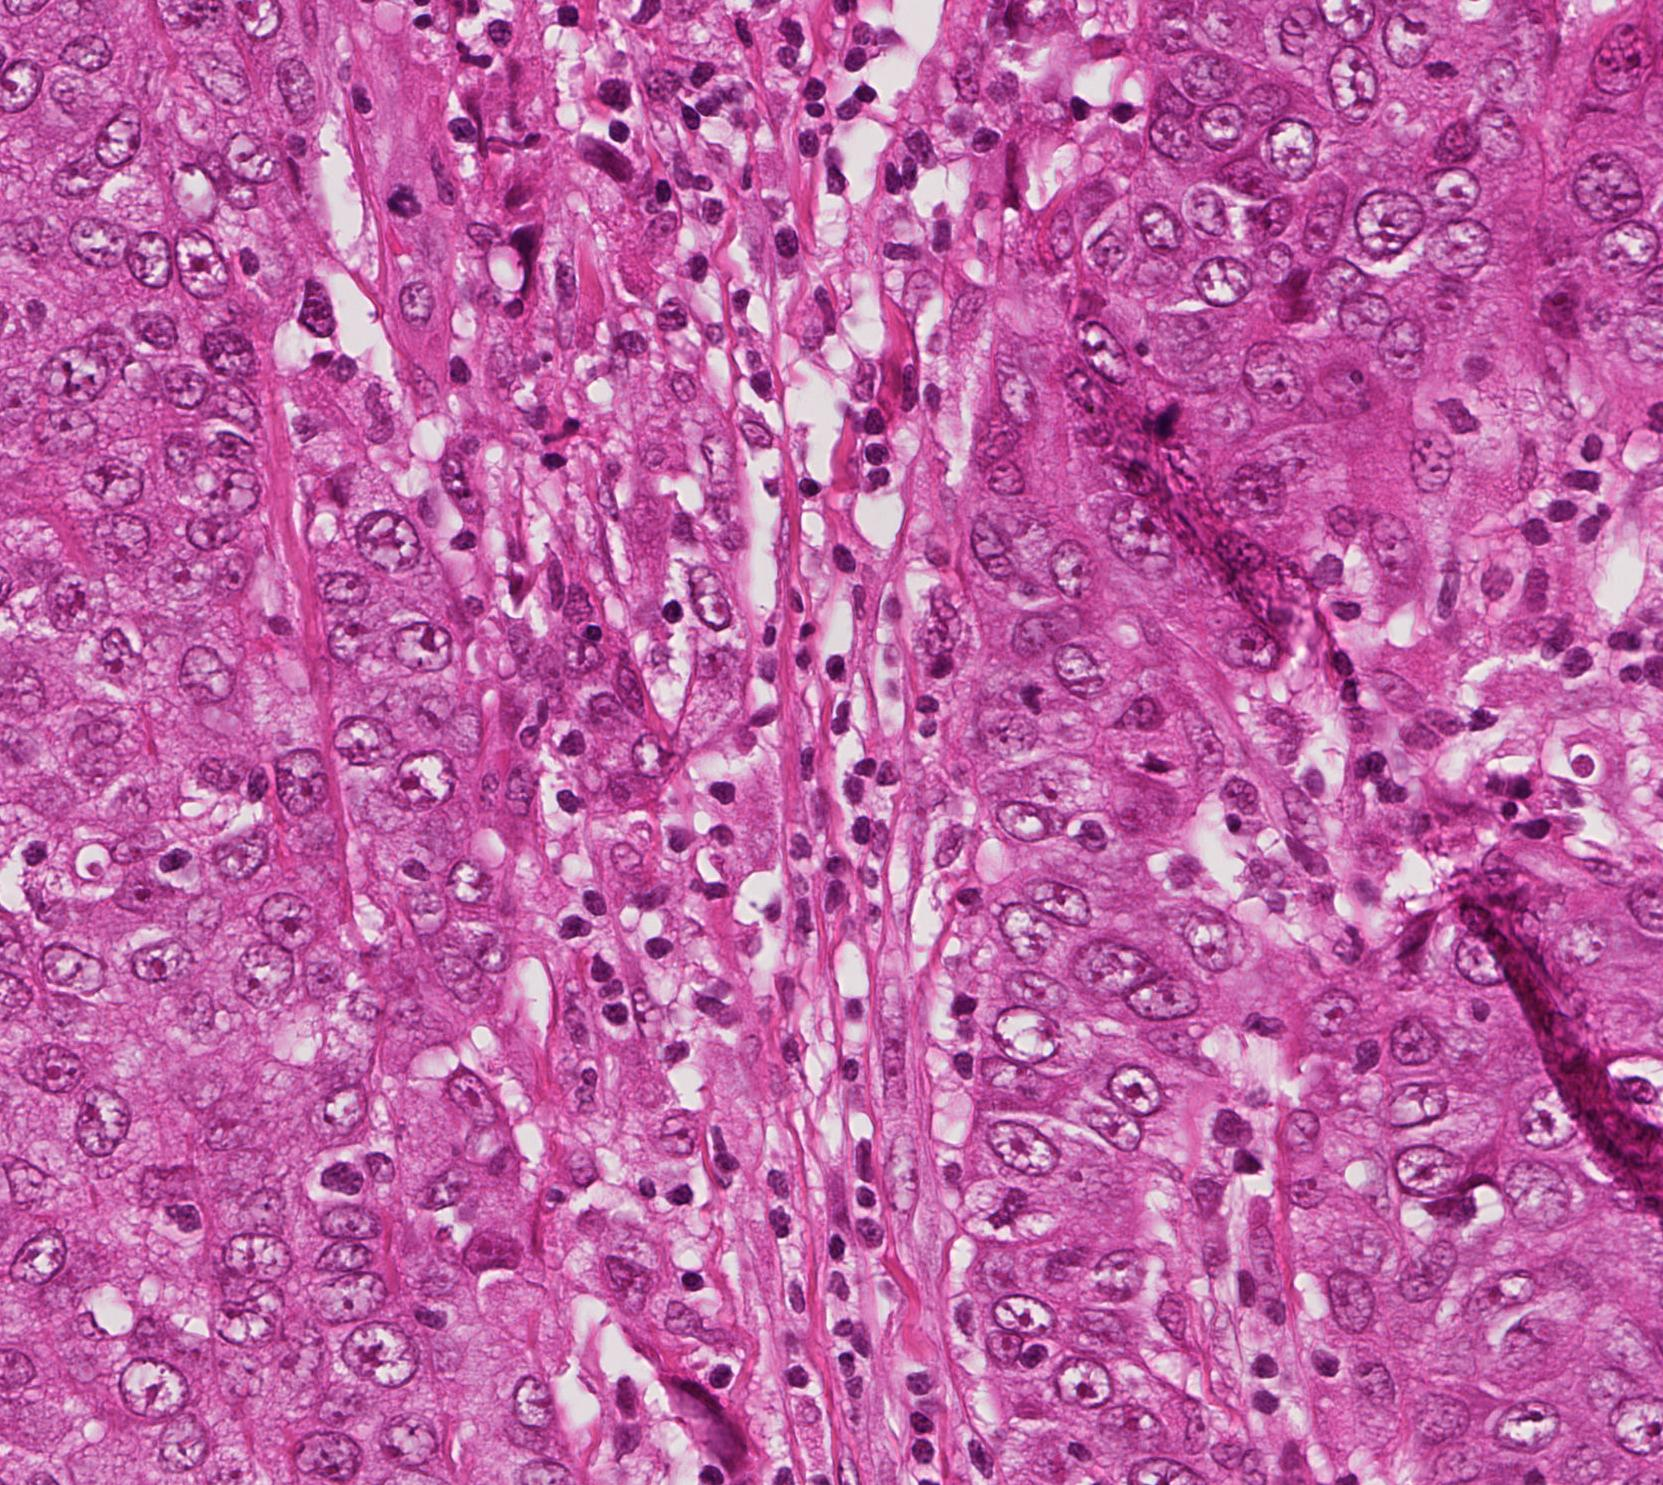mitosis: (1415, 36, 1475, 96)
